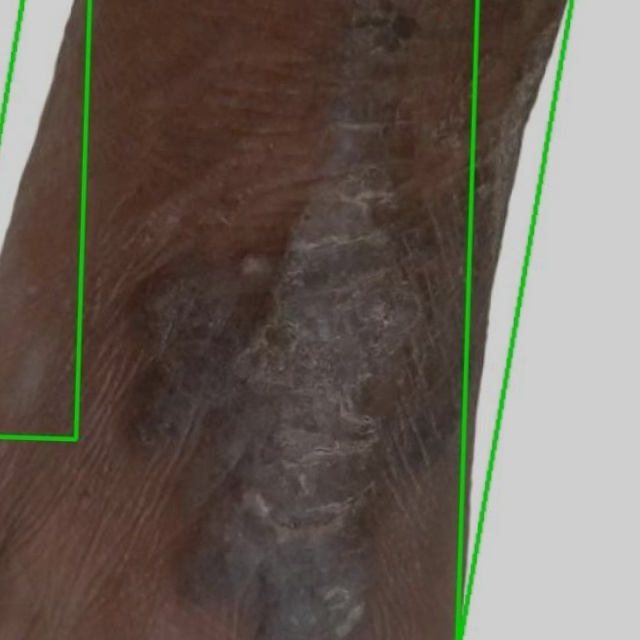Eczema: (0, 0, 574, 639), (457, 0, 639, 639)
